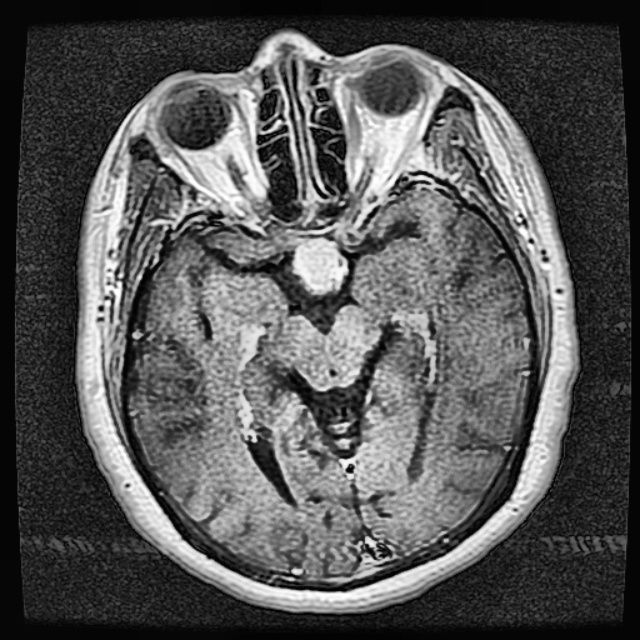Pituitary: (292, 237, 347, 290)
